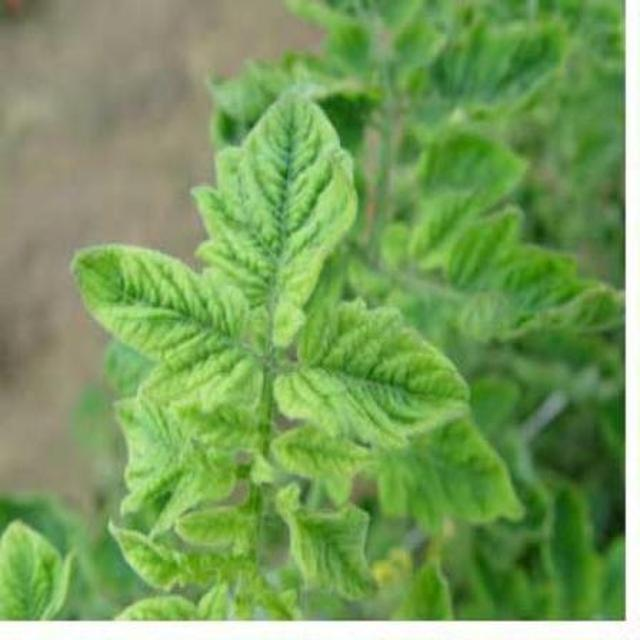Yellow Leaf Curl Virus: (55, 149, 640, 640)
